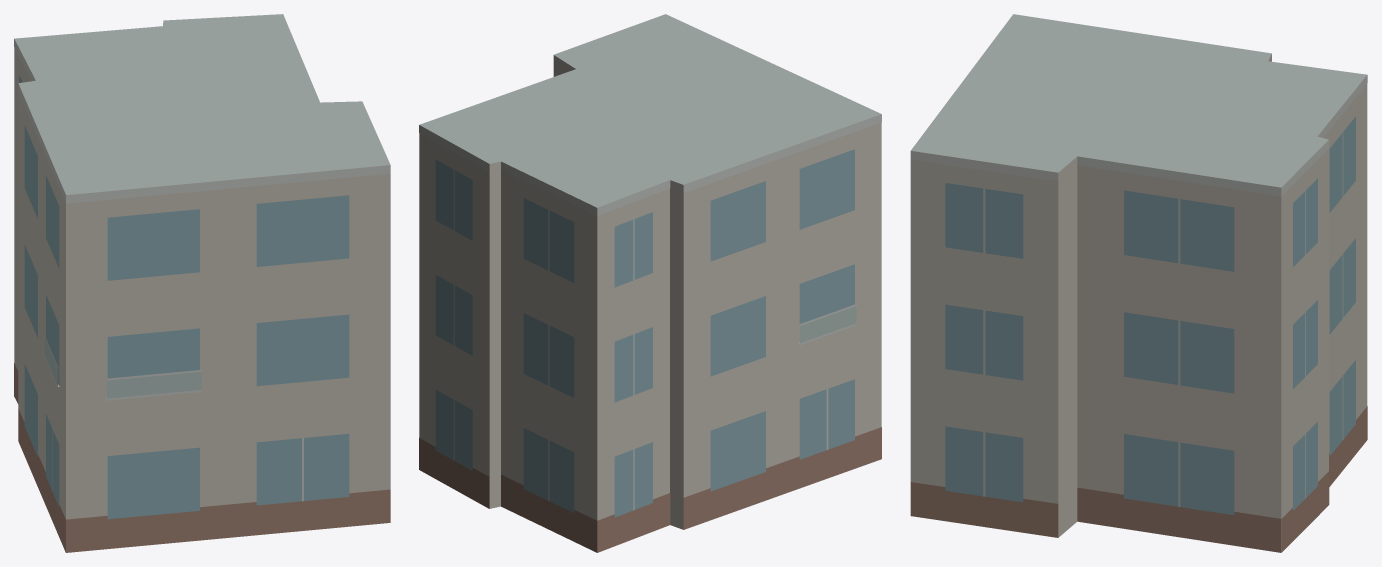
File: survey-upis-33045616.glb
3 renders of one model, left to right at view 1: azimuth 30°, elevation 25°; view 2: azimuth 150°, elevation 25°; view 3: azimuth 270°, elevation 25°, orthographic. The views are drawn at different scales.
Visible parts, largest first — view 1: survey-upis-33045616.tmp; view 2: survey-upis-33045616.tmp; view 3: survey-upis-33045616.tmp.
Part boxes in pixels (<box>): survey-upis-33045616.tmp: <box>14,14,390,552</box>; survey-upis-33045616.tmp: <box>419,14,881,552</box>; survey-upis-33045616.tmp: <box>910,14,1367,552</box>.
Bounding box in the file's own units: 10.41 × 10.2 × 11.57.
